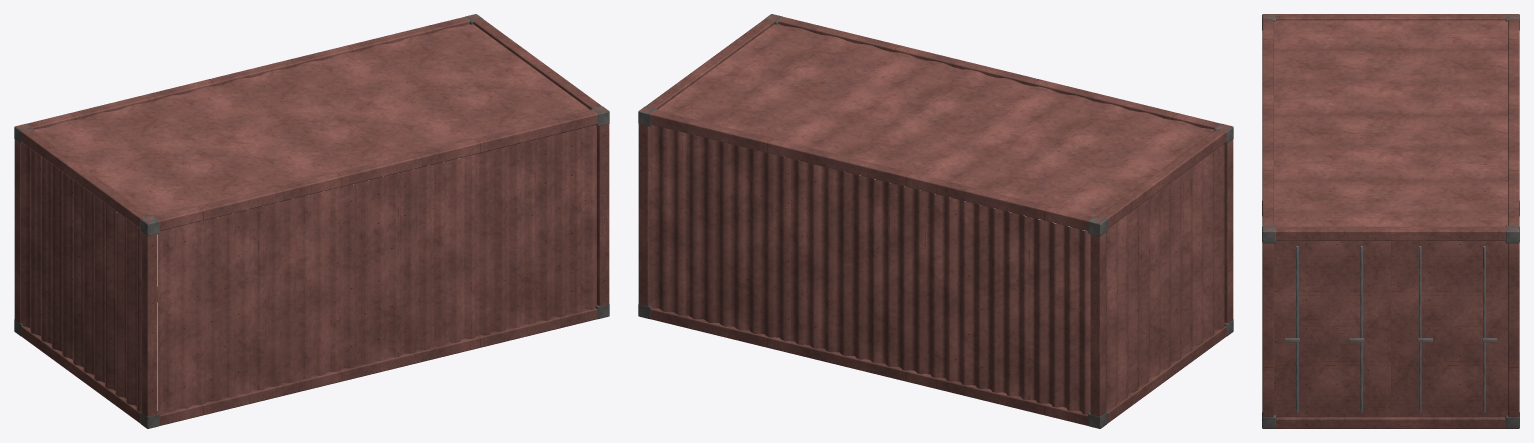
Rendered from prop_containerRed.glb.
The picture shows the model from 3 angles, left to right: view 1: azimuth 30°, elevation 25°; view 2: azimuth 150°, elevation 25°; view 3: azimuth 270°, elevation 25°; orthographic projection. The views are drawn at different scales.
Visible parts, largest first — view 1: prop; view 2: prop; view 3: prop.
Part boxes in pixels (box(x1,y1,x2,y2)): prop: box(14, 14, 609, 428); prop: box(638, 14, 1233, 428); prop: box(1262, 14, 1519, 428).
Size of the model in its own units: 4.01 by 1.7 by 2.
Materials: 1 (1 with a texture image).
